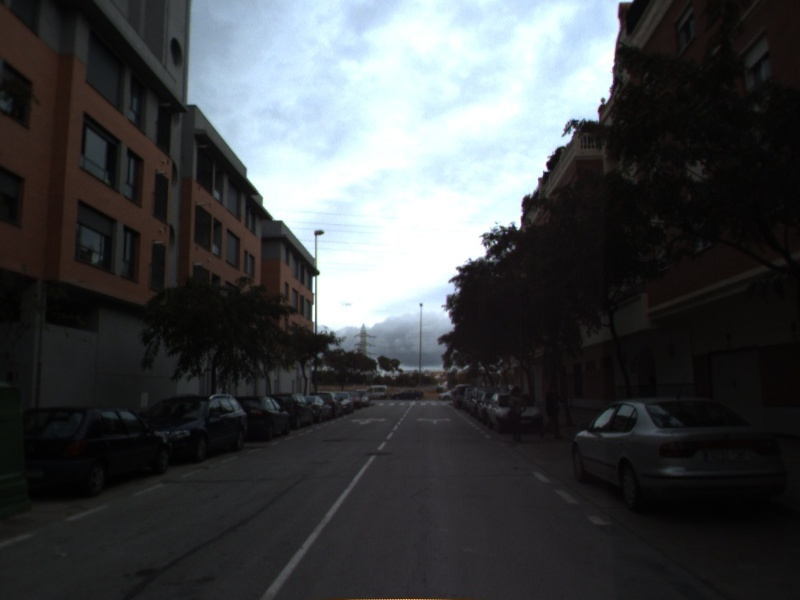LEFT_RIGHT: (414, 415, 455, 427)
